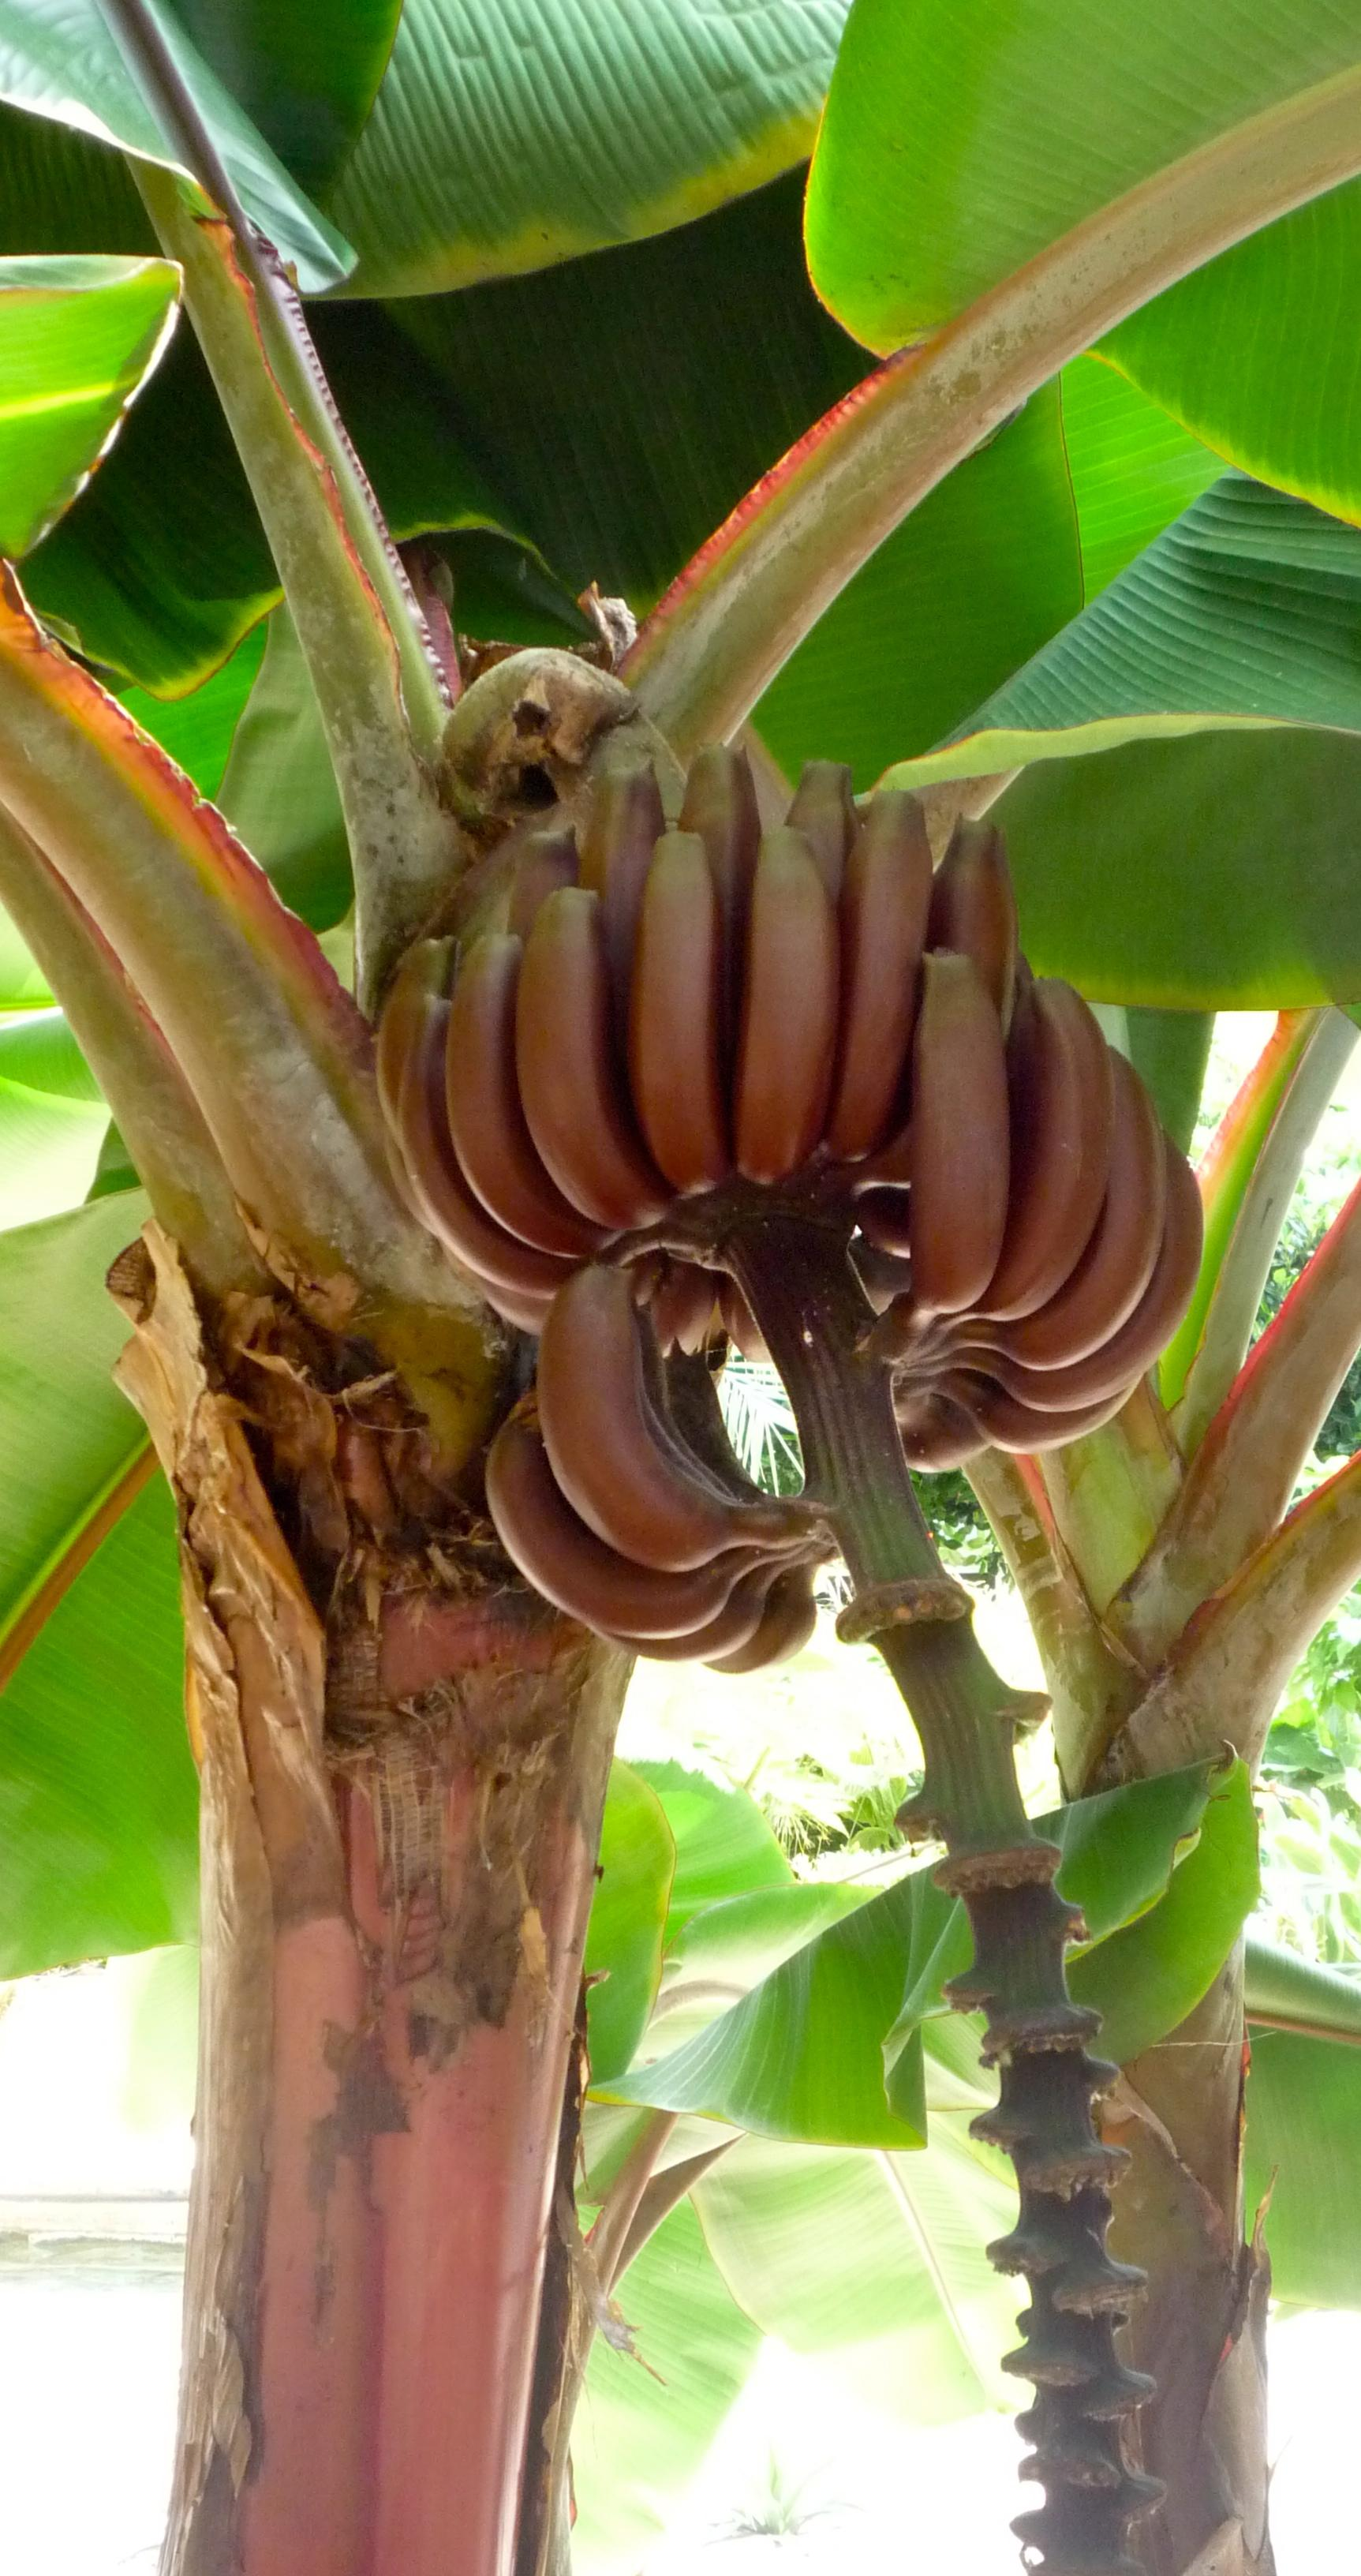Banana Rotten: (623, 710, 923, 1358)
